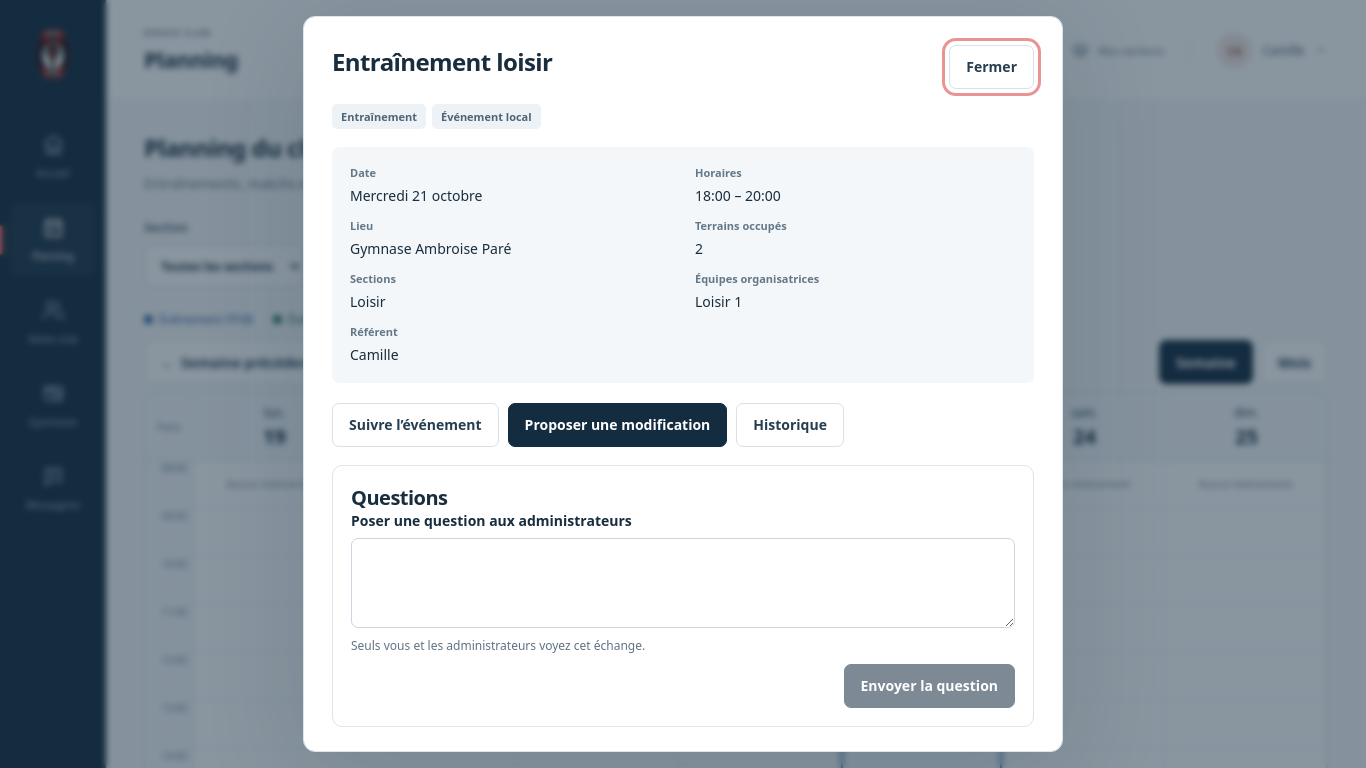
it: un référent sans droit direct envoie une demande avec les seuls champs modifiés
Click the button "Proposer une modification".
click(617, 425)  # box [508,403,727,447]
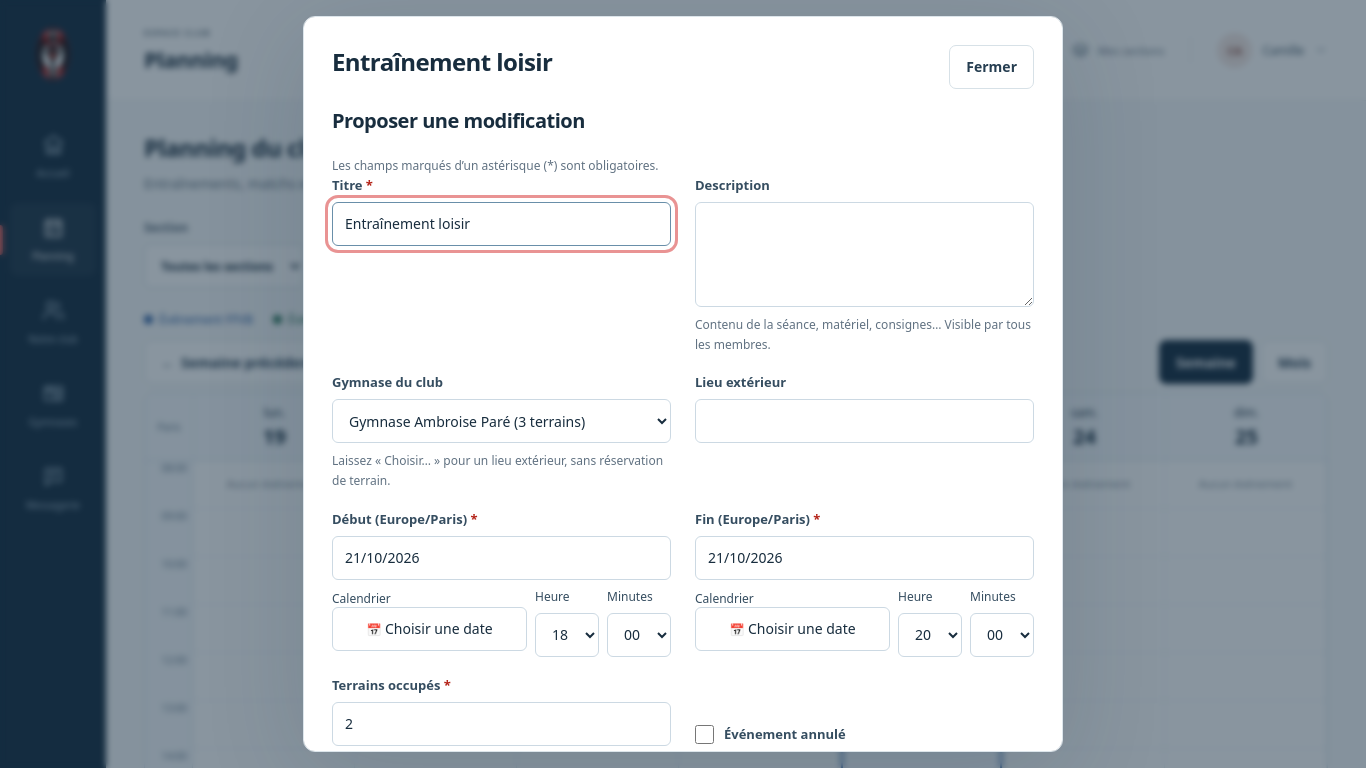
Replace the text in the number field labelled "Terrains occupés" with "1" at [502, 724], box [332,702,671,746]
(page scrolled)
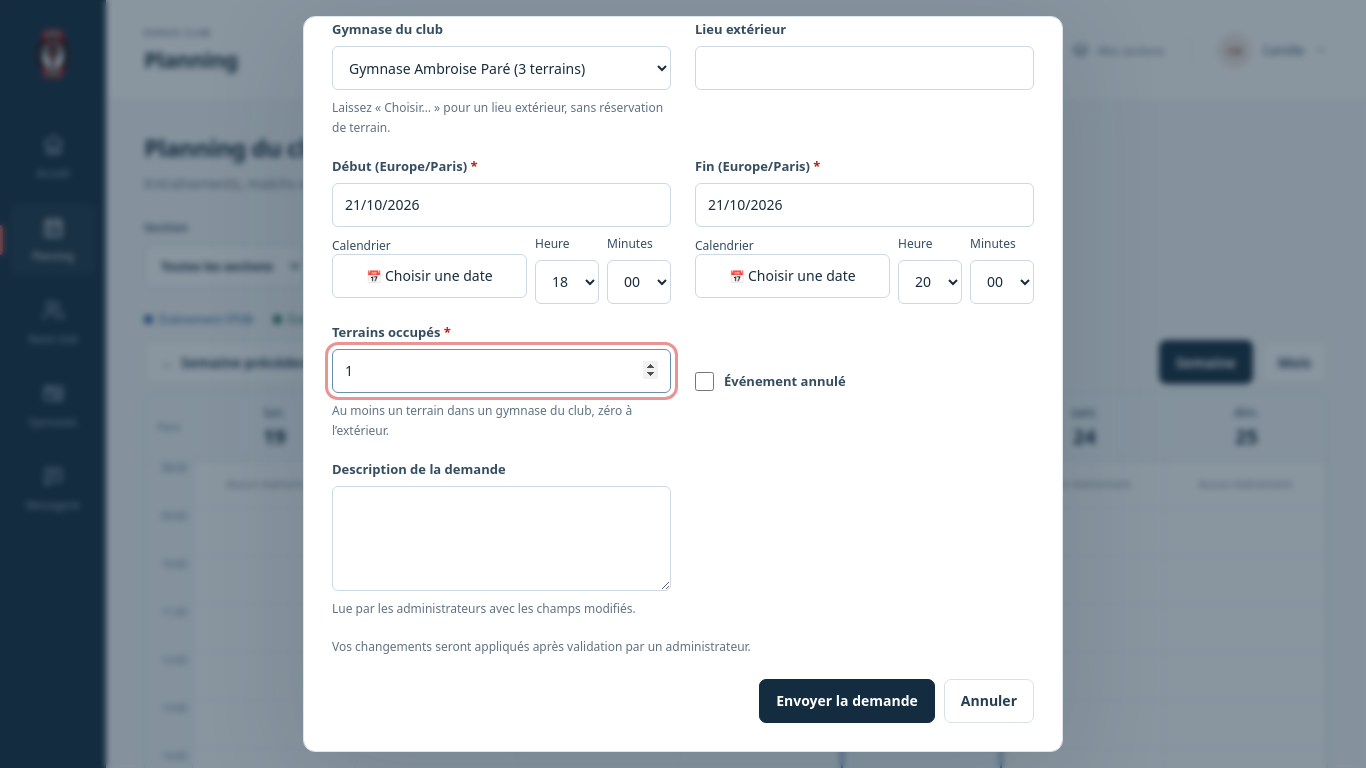
Click the button "Envoyer la demande".
click(847, 701)  # box [759,679,935,723]
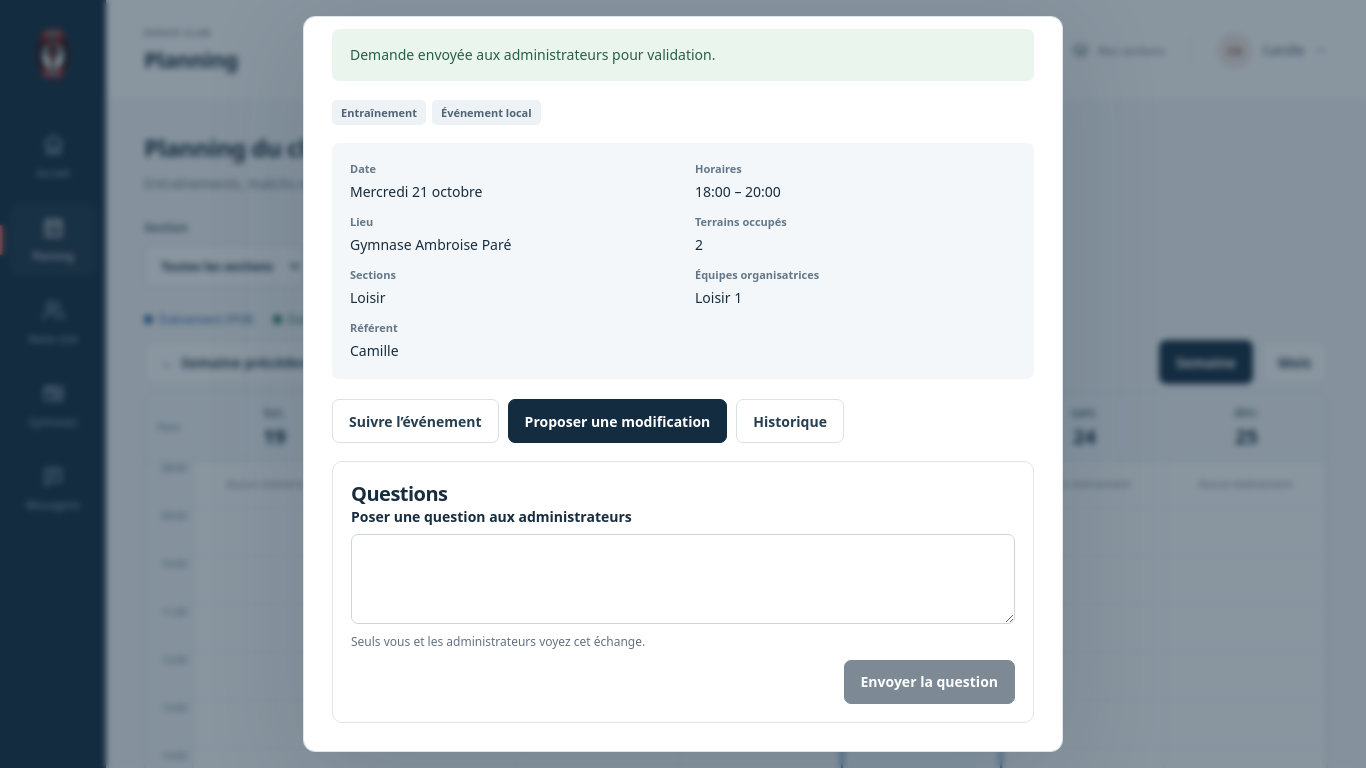
Expected: the text "Demande envoyée aux administrateurs pour validation." is shown, [332,29,1034,81]
